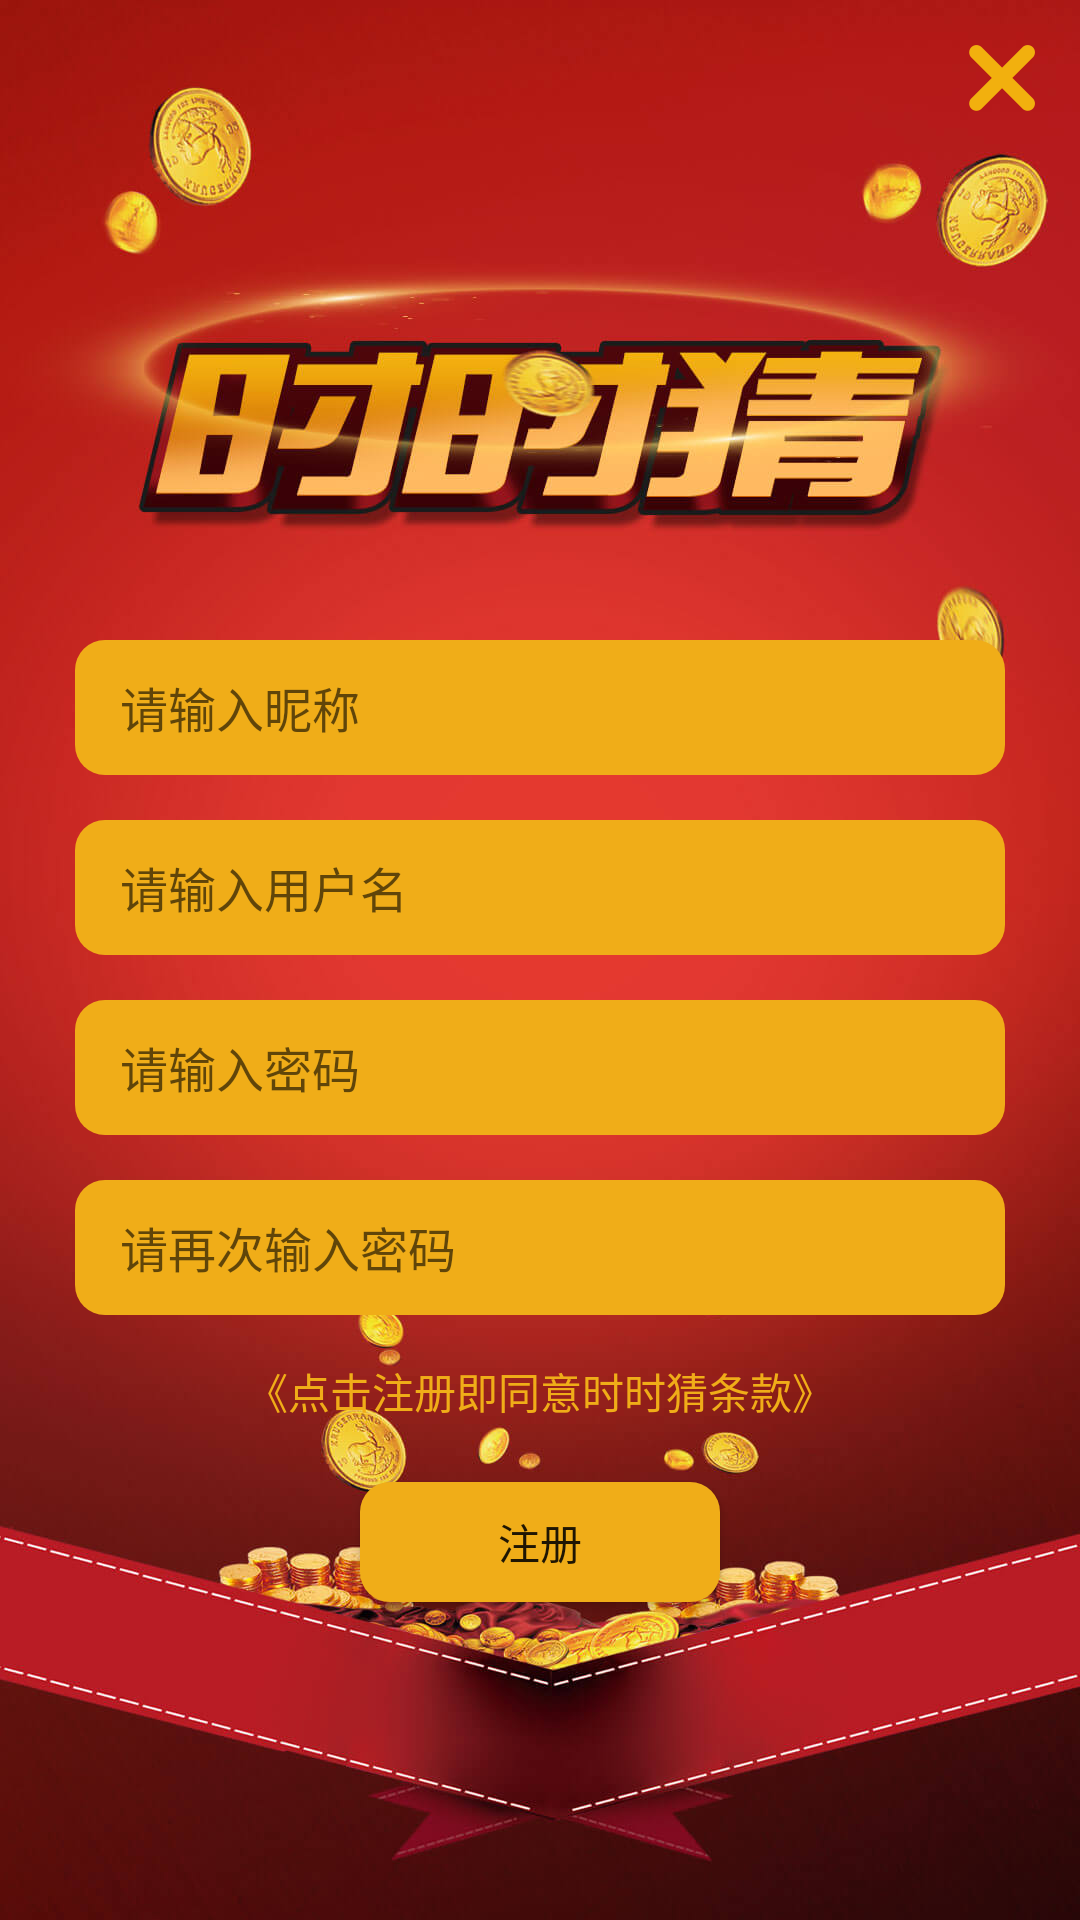

Icon bounding boxes for this 1080px x 1920px phone screenshot, format (x1, y1, x2, y2):
close: (969, 45, 1035, 111)
